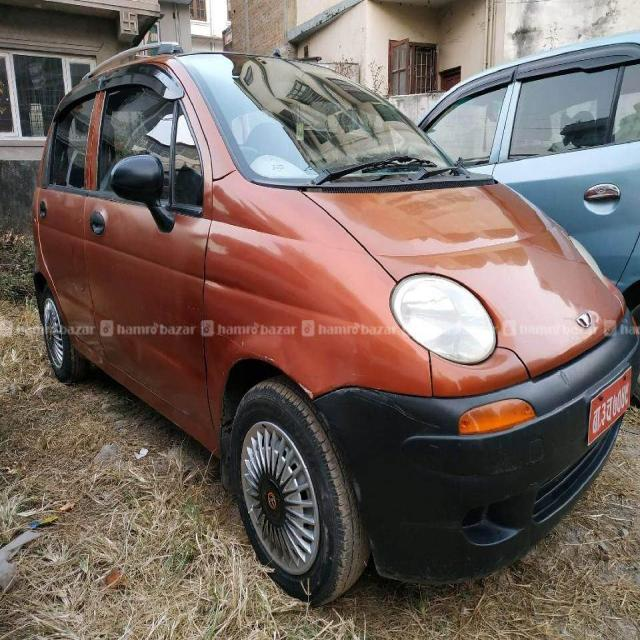License-plate: (587, 368, 632, 444)
